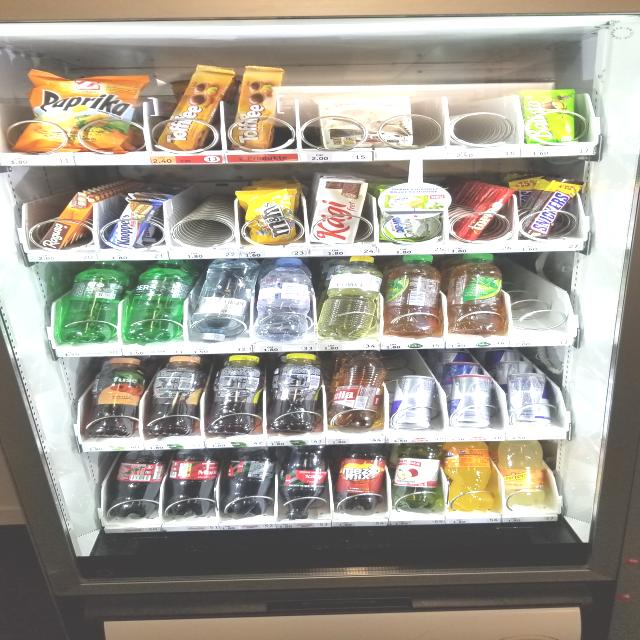balisto_muesli__37g__5000159418546: (522, 88, 580, 145)
berger_bruensli____: (319, 95, 411, 149)
coke__flasche_50__54491472: (102, 449, 162, 519), (162, 447, 215, 517)
coke_zero_flasche_50__5449000131836: (217, 445, 276, 515), (276, 444, 331, 519)
darwida_sandwich____7610032065170: (376, 182, 444, 243)
evian___50__3068320353500: (256, 257, 316, 342)
fanta___50__40822938: (447, 440, 492, 515)
fuse_lemon__50__5449000235947: (209, 354, 265, 435), (268, 352, 323, 432)
fuse_peach__50__5449000236623: (146, 354, 206, 436), (87, 355, 145, 438)
kagi___50__7610046000259: (316, 176, 372, 244)
knoppers_riegel____4035800488808: (107, 192, 167, 250)
mezzomix___50__54490840: (334, 442, 388, 512)
mnms_gelb__45__40111445: (239, 186, 300, 246)
ragusa___50__76401121: (37, 188, 99, 253)
ramseier_jusdepomme__50__7610057001078: (392, 440, 444, 510)
redbull___33__90162909: (448, 373, 494, 427), (390, 374, 432, 428), (510, 372, 551, 425)
rivella_rot__50__7610097111072: (330, 348, 382, 429)
schweppes_citrus__50__: (494, 442, 554, 506)
snickers___50__5000159461122: (521, 175, 588, 240)
toffifee___33__4014400924275: (156, 68, 230, 152), (232, 64, 290, 151)
torino___46__76415272: (449, 182, 515, 243)
valser_classic__50__76404160: (56, 259, 125, 344), (124, 258, 189, 343)
valser_still__50__7610335002575: (188, 259, 255, 346)
valser_vivabirne__50__7610335001530: (316, 256, 382, 340)
volvic_teeminze__50__3057640335648: (386, 254, 442, 339), (450, 250, 503, 338)
zweifel_paprika__90__7610095013002: (16, 70, 142, 154)
